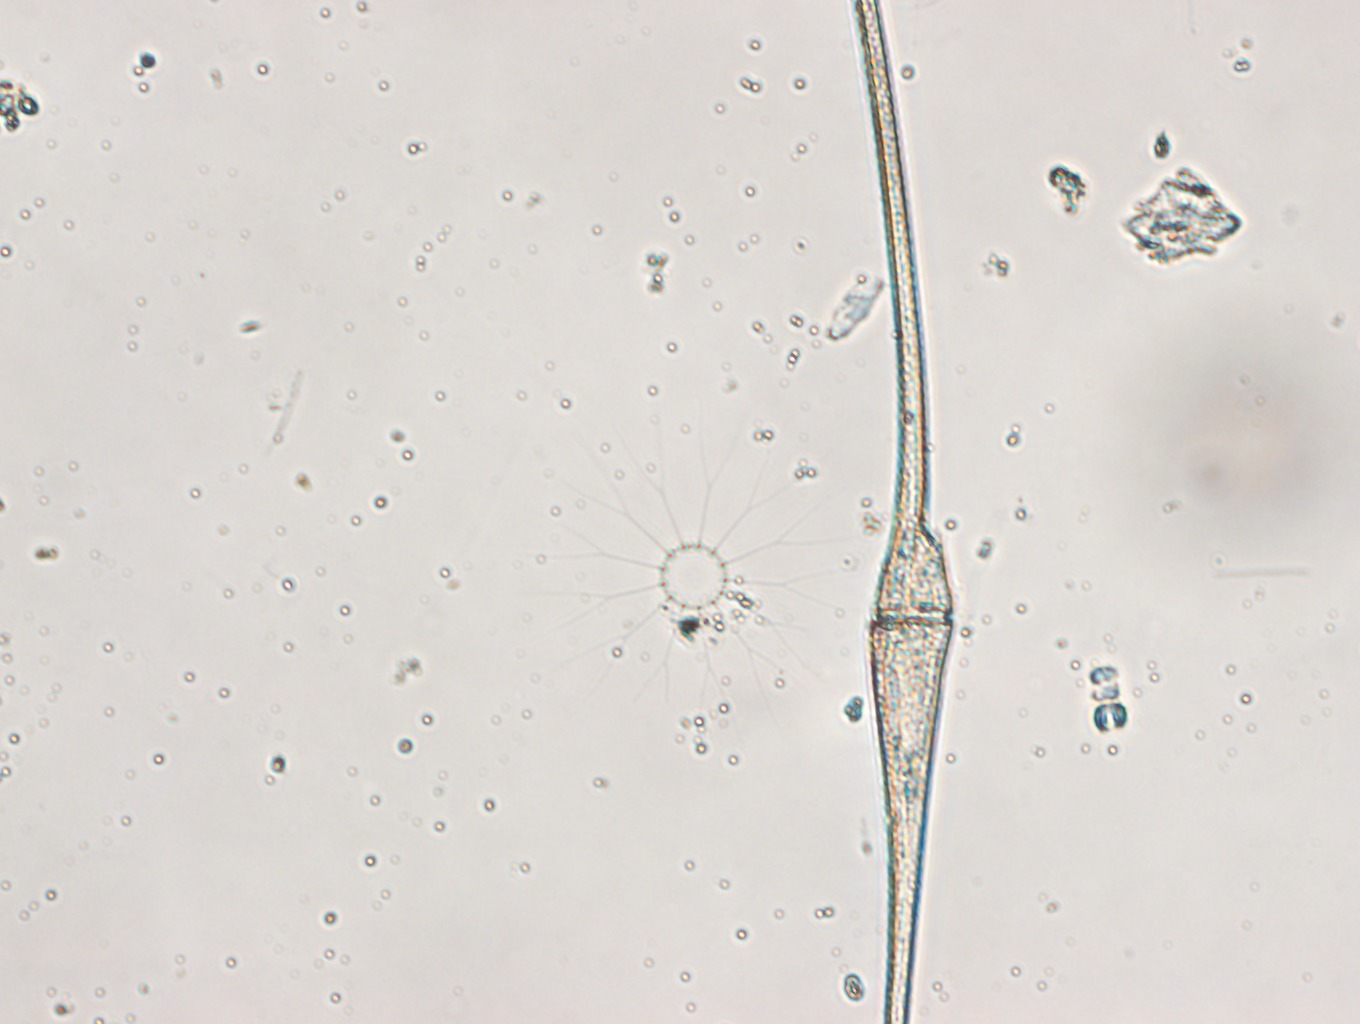bacteriastrum: (539, 429, 849, 736)
ceratium fusus: (855, 1, 953, 1024)
